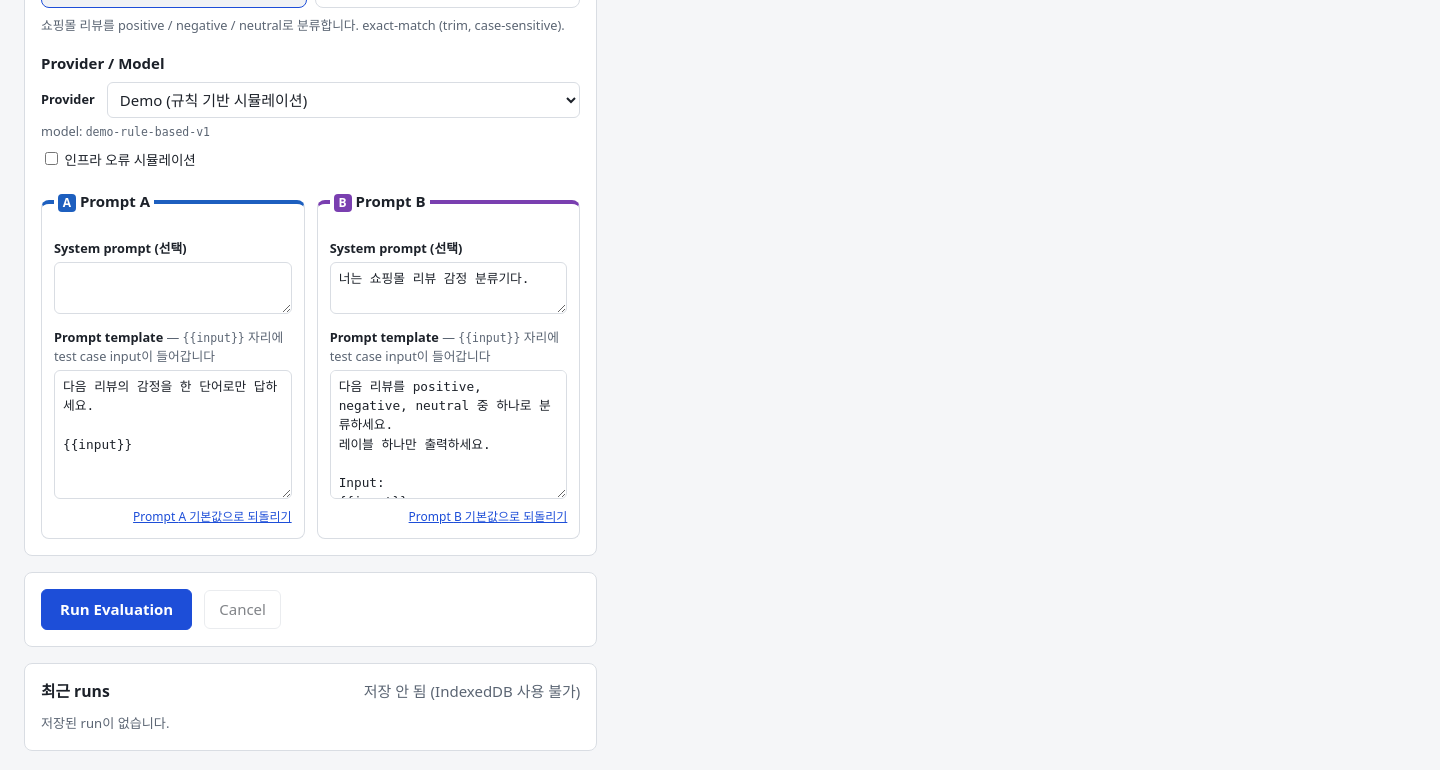
Test: App › Cancel은 provider signal까지 abort하고, 완료된 결과를 보존해 표시한다
(page scrolled)
What coordinates should you click on to do the following:
click the button "Run Evaluation"
I would click on:
 (117, 610)
Its box is [41,589,192,630].
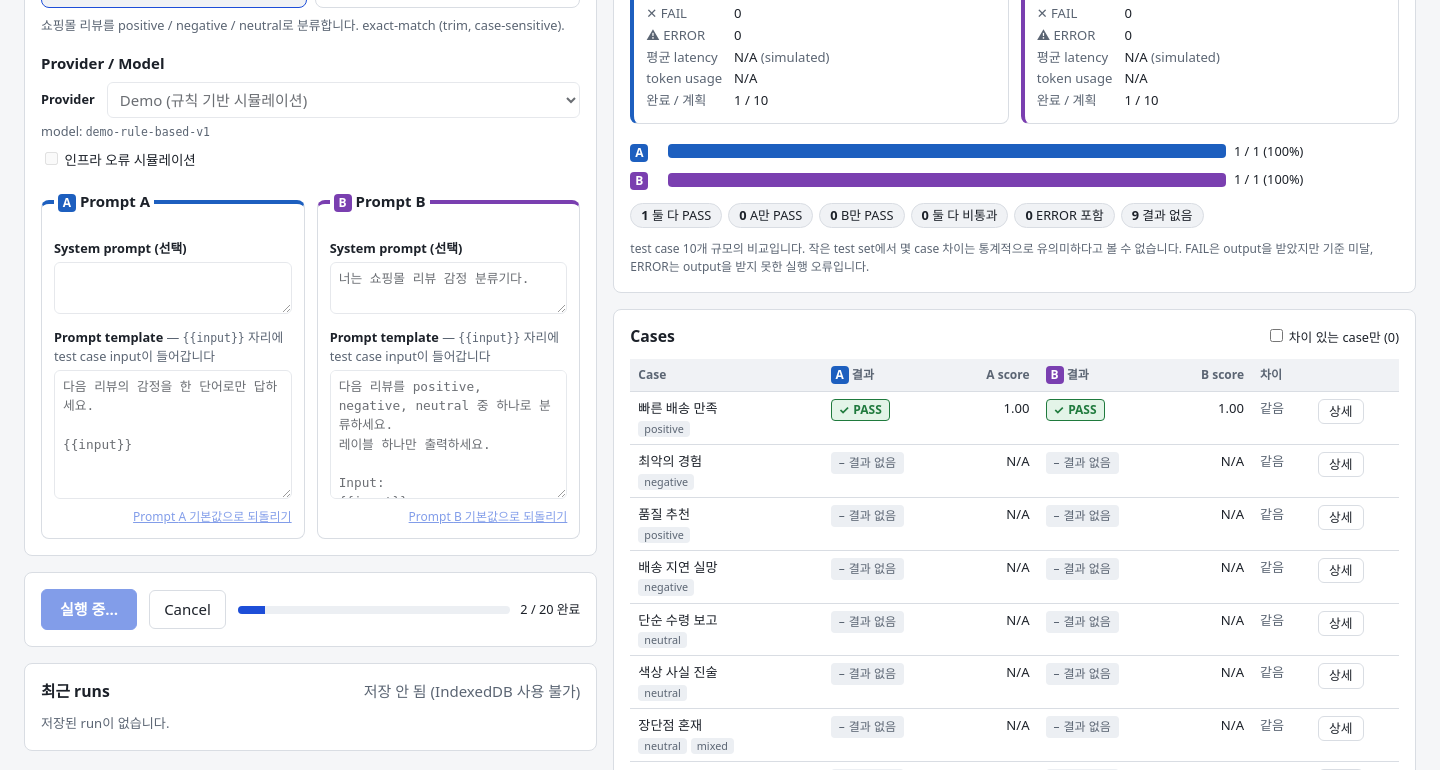
expect the text "2 / 20 완료" is shown: met, box [520,600,580,619]
What coordinates should you click on to do the following:
click the button "Cancel"
I would click on:
 (187, 610)
Its box is [149,590,226,629].
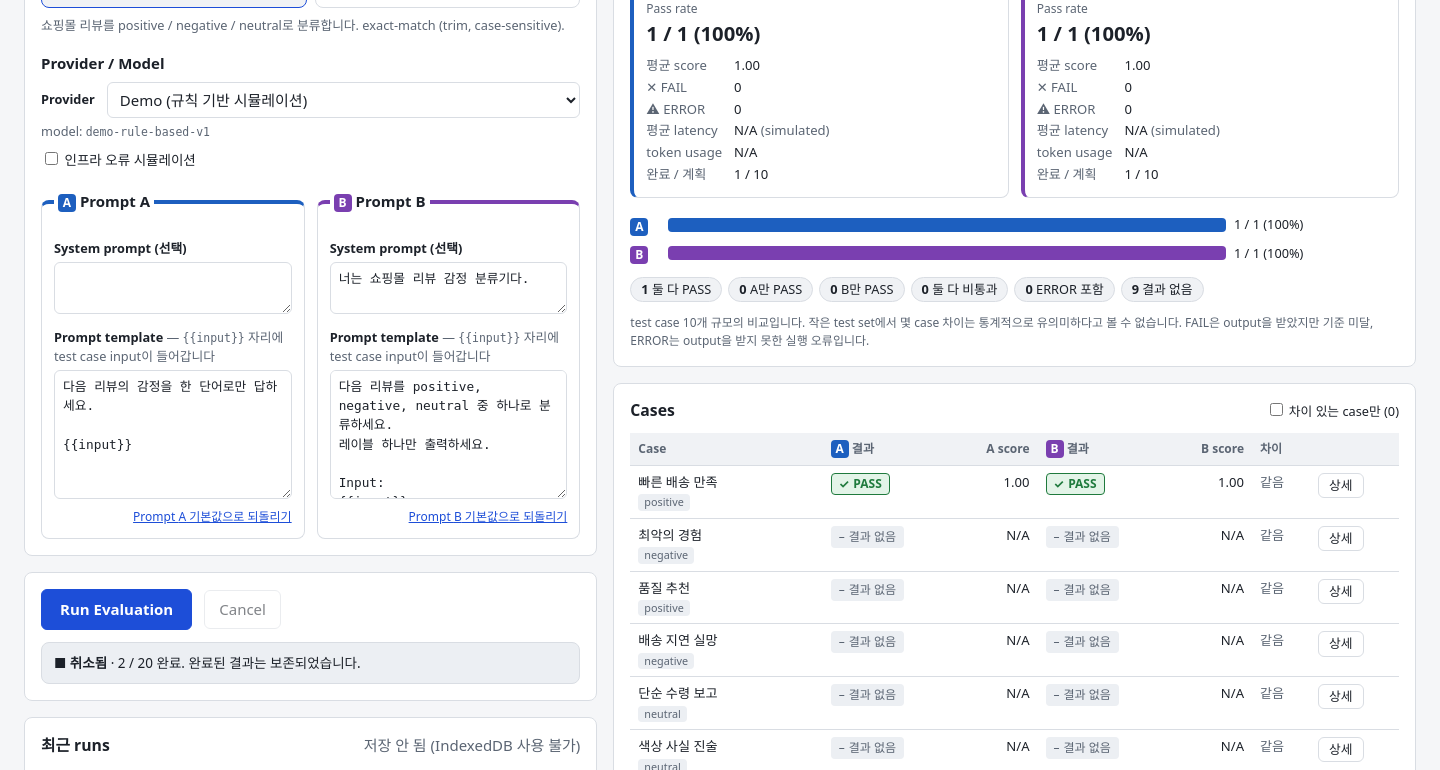
expect the 1st text "1 / 1 (100%)" is shown: met, box [646,19,760,47]
expect the list item "결과 없음" is shown: met, box [1142,280,1193,298]
expect the text "■ 취소됨 · 2 / 20 완료. 완료된 결과는 보존되었습니다." is shown: met, box [41,642,580,684]
